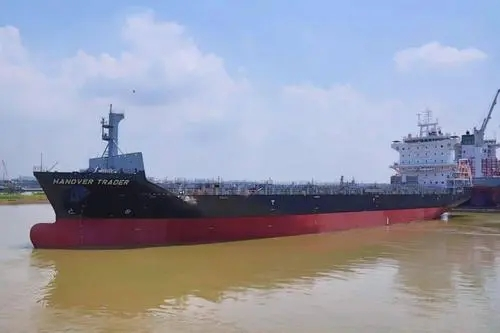Cargoship: (21, 104, 471, 254)
